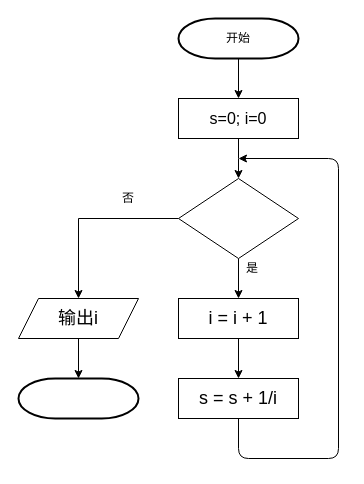
Some shapes in this 364 by 484 pixel diagram are drawn without their labels. Here are the shapes that lost their labels. From the top down, the box of each, then its label:
(178, 178, 298, 258): s<3
(17, 377, 139, 419): 结束
